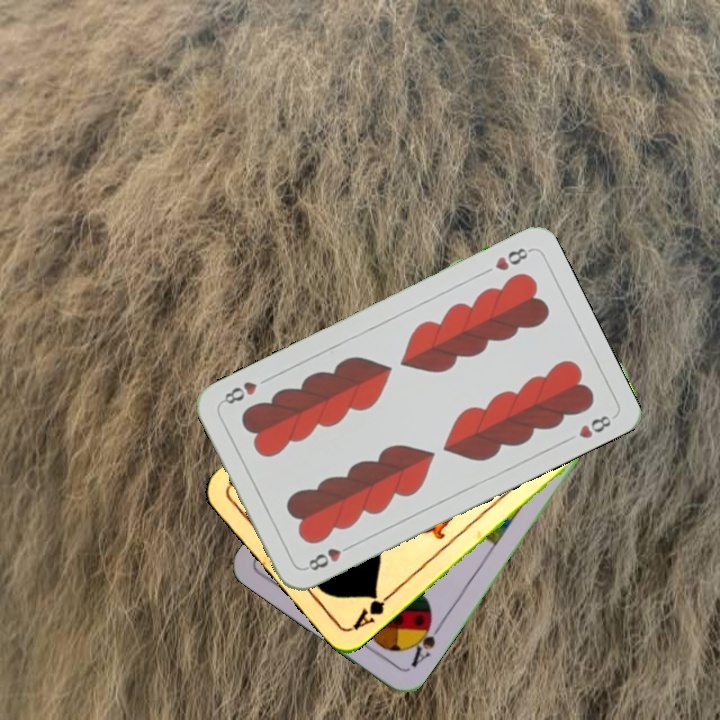GA: (348, 587, 397, 634)
H8: (301, 540, 356, 574), (491, 243, 533, 273)
SA: (404, 614, 445, 670)
